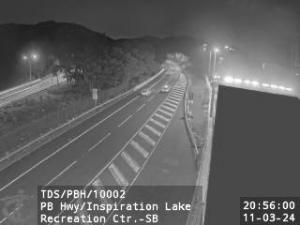vehicle: (142, 89, 150, 96), (161, 87, 169, 93)
